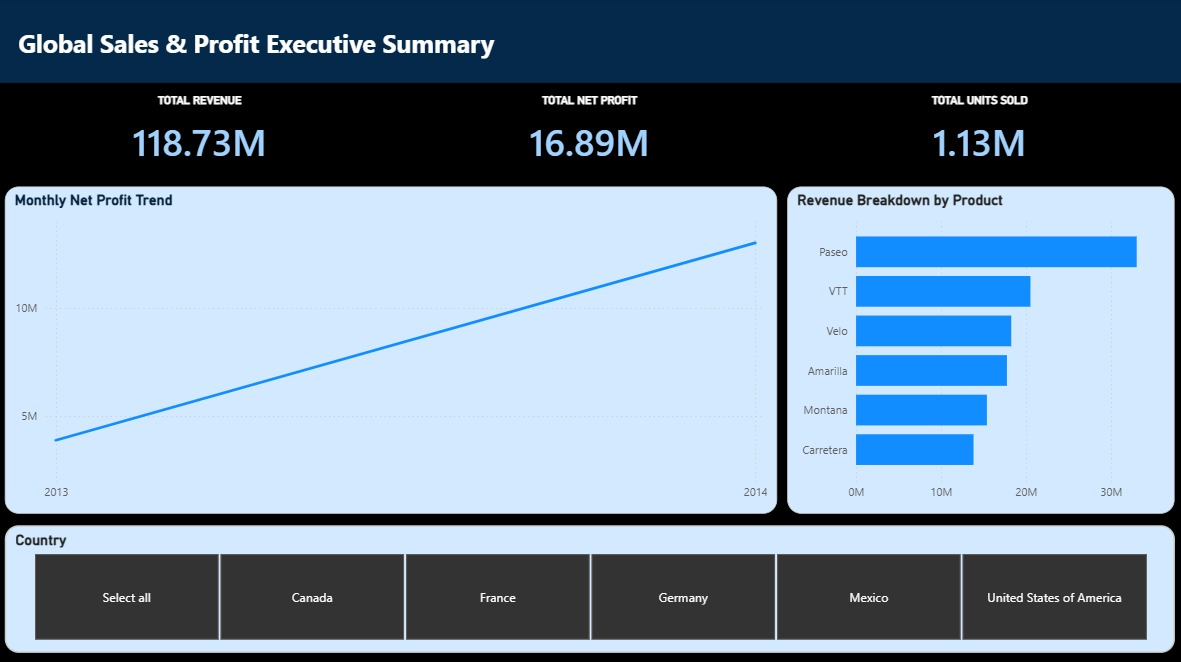

This screenshot's page, from the dashboard's own definition file:
{"tool":"powerbi","page":{"name":"Page 1","canvas":[1280,720],"ordinal":0},"visuals":[{"type":"shape","box":[0,0,1280.3,90.6],"z":0},{"type":"textbox","box":[19.2,24.7,526.9,45.3],"z":1000},{"type":"cardVisual","title":"TOTAL REVENUE","fields":{"Data":["Sum(financials. Sales)"]},"box":[9.4,102.4,420.5,84.9],"z":2000,"group":"g1"},{"type":"lineChart","title":"Monthly Net Profit Trend","fields":{"Category":["financials.Date.Variation.Date Hierarchy.Year","financials.Date.Variation.Date Hierarchy.Quarter","financials.Date.Variation.Date Hierarchy.Month","financials.Date.Variation.Date Hierarchy.Day"],"Y":["Sum(financials.Profit)"]},"box":[9.4,202.1,832.9,353.1],"z":2000},{"type":"cardVisual","title":"TOTAL NET PROFIT","fields":{"Data":["Sum(financials.Profit)"]},"box":[429.9,102.4,420.5,84.9],"z":3000,"group":"g1"},{"type":"clusteredBarChart","title":"Revenue Breakdown by Product","fields":{"Category":["financials.Product"],"Y":["Sum(financials. Sales)"]},"box":[853.1,202.1,417.8,353.1],"z":3000},{"type":"cardVisual","title":"TOTAL UNITS SOLD","fields":{"Data":["Sum(financials.Units Sold)"]},"box":[850.3,102.4,420.5,84.9],"z":4000,"group":"g1"},{"type":"slicer","title":"Country","fields":{"Values":["financials.Country"]},"box":[9.4,567.4,1261.4,137.5],"z":4000},{"type":"group","id":"g1","title":"Group 1","box":[9.4,102.4,1261.4,84.9],"z":5000}]}

Visuals, with their boxes in screenshot pixels (x1, y1, x2, y2), scaled from the page's 1280x720 canvas onto the 1181x662 screenshot:
shape: <box>0,0,1180,83</box>
textbox: <box>18,23,504,64</box>
"TOTAL REVENUE" cardVisual: <box>9,94,397,172</box>
"Monthly Net Profit Trend" lineChart: <box>9,186,777,510</box>
"TOTAL NET PROFIT" cardVisual: <box>397,94,785,172</box>
"Revenue Breakdown by Product" clusteredBarChart: <box>787,186,1173,510</box>
"TOTAL UNITS SOLD" cardVisual: <box>785,94,1173,172</box>
"Country" slicer: <box>9,522,1173,648</box>
"Group 1" group: <box>9,94,1173,172</box>
